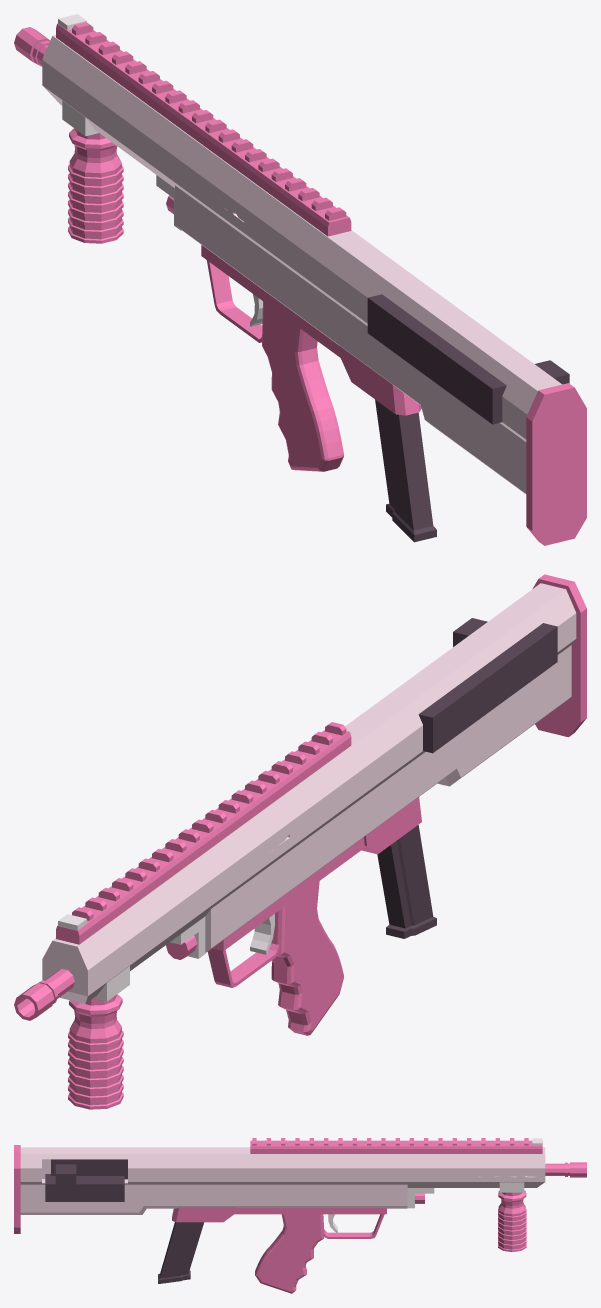
The model's file is Bullpup_1.obj.
3 views of the same model, one above another, from view 1: azimuth 30°, elevation 25°; view 2: azimuth 150°, elevation 25°; view 3: azimuth 270°, elevation 25° (orthographic). The views are drawn at different scales.
Visible parts, largest first — view 1: Panel, Grip, Bolt, Mag, Body; view 2: Panel, Grip, Bolt, Mag, Body; view 3: Panel, Grip, Hardware, Mag, Bolt, Body.
Boxes of the visible parts, x1=… form: Panel: x1=42, y1=35, x2=561, y2=494; Grip: x1=14, y1=22, x2=586, y2=545; Bolt: x1=367, y1=294, x2=569, y2=424; Mag: x1=375, y1=399, x2=436, y2=542; Body: x1=58, y1=14, x2=262, y2=326; Panel: x1=42, y1=583, x2=576, y2=1003; Grip: x1=14, y1=574, x2=586, y2=1109; Bolt: x1=418, y1=618, x2=557, y2=753; Mag: x1=377, y1=825, x2=436, y2=938; Body: x1=58, y1=914, x2=275, y2=1001; Panel: x1=20, y1=1147, x2=545, y2=1214; Grip: x1=14, y1=1138, x2=586, y2=1293; Hardware: x1=45, y1=1174, x2=124, y2=1201; Mag: x1=158, y1=1222, x2=203, y2=1283; Bolt: x1=51, y1=1159, x2=127, y2=1184; Body: x1=328, y1=1138, x2=542, y2=1233.
Size of the model in its own units: 0.44 by 1.47 by 5.
